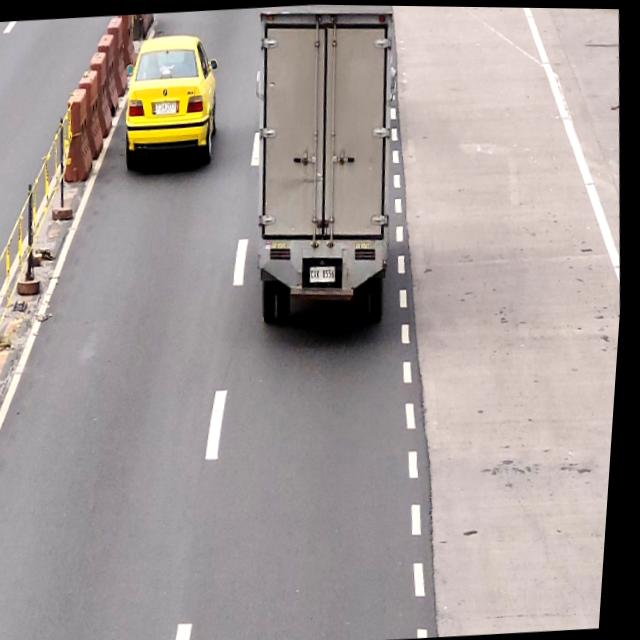Car: (118, 30, 226, 175)
License-Plate: (312, 261, 341, 285), (152, 99, 180, 116)
Truck: (237, 3, 409, 333)
